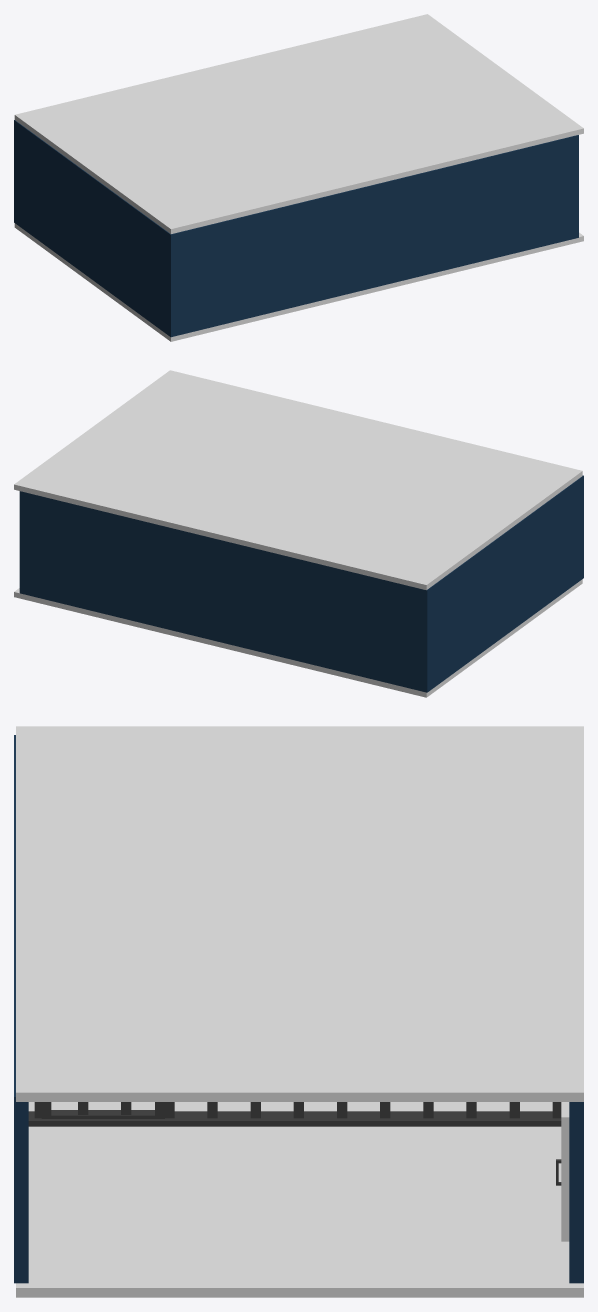
File: Jail Cell.fbx
3 views of the same model, one above another, from view 1: azimuth 30°, elevation 25°; view 2: azimuth 150°, elevation 25°; view 3: azimuth 270°, elevation 25° (orthographic). The views are drawn at different scales.
Visible parts, largest first — view 1: Jail_Ceiling, Jail_Walls, Jail_Floor; view 2: Jail_Ceiling, Jail_Walls, Jail_Floor; view 3: Jail_Ceiling, Jail_Floor, Jail_Bottom, Jail_Walls, Fast_Food_Door1, Jail_Door.
Part boxes in pixels (x1,y1,x2,y2): Jail_Ceiling: [14, 14, 583, 233]; Jail_Walls: [14, 120, 578, 337]; Jail_Floor: [14, 223, 583, 341]; Jail_Ceiling: [14, 370, 582, 590]; Jail_Walls: [19, 475, 583, 692]; Jail_Floor: [14, 579, 582, 697]; Jail_Ceiling: [16, 726, 583, 1101]; Jail_Floor: [16, 1102, 583, 1297]; Jail_Bottom: [28, 1111, 561, 1126]; Jail_Walls: [14, 735, 583, 1283]; Fast_Food_Door1: [561, 1102, 569, 1241]; Jail_Door: [41, 1102, 164, 1118].
Size of the model in its own units: 101 by 26.18 by 66.02.
